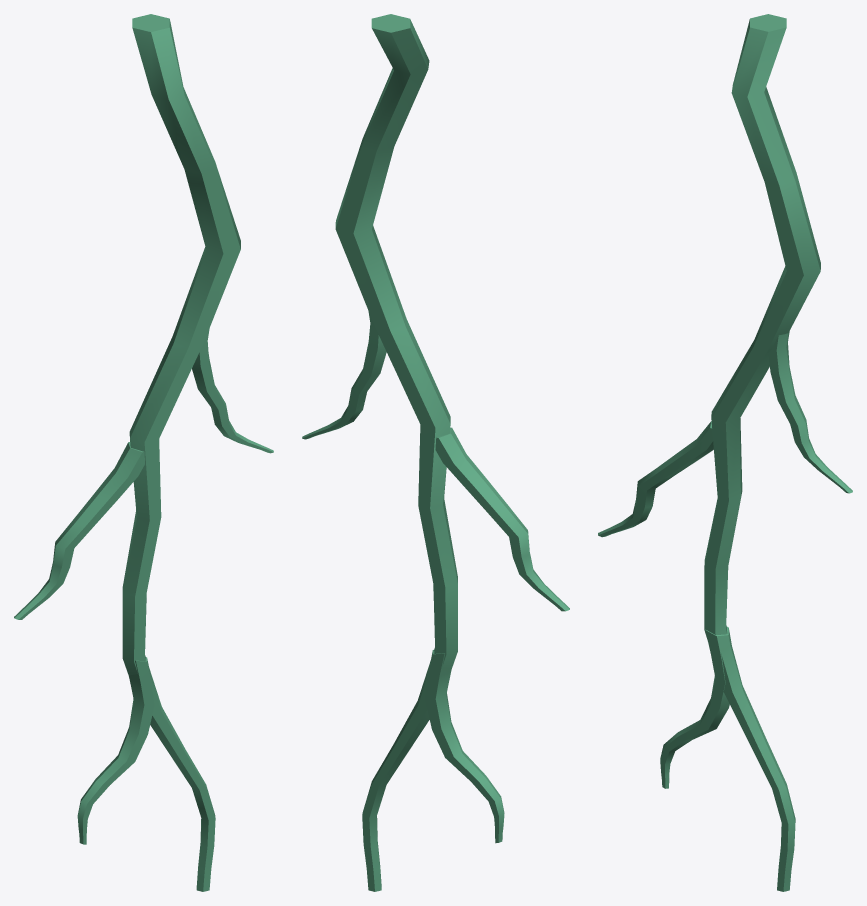
The model's file is A_ThinVine2.fbx.
3 views of the same model, side by side, from view 1: azimuth 30°, elevation 25°; view 2: azimuth 150°, elevation 25°; view 3: azimuth 330°, elevation 25° (orthographic). The views are drawn at different scales.
Visible parts, largest first — view 1: polySurface1; view 2: polySurface1; view 3: polySurface1.
Part boxes in pixels (x1,y1,x2,y2): polySurface1: (14,14,273,891); polySurface1: (302,14,569,891); polySurface1: (598,14,852,891).
Size of the model in its own units: 13.77 by 43.63 by 3.38.
